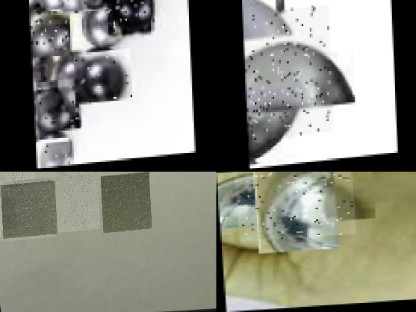ironball: (242, 5, 332, 139), (234, 171, 355, 240), (72, 49, 131, 104), (0, 181, 55, 239), (98, 175, 149, 236), (50, 174, 98, 235), (33, 78, 79, 130), (29, 9, 69, 57), (106, 0, 154, 36), (34, 138, 69, 169), (59, 0, 108, 13), (0, 171, 27, 189), (0, 197, 14, 230), (32, 90, 37, 141)
